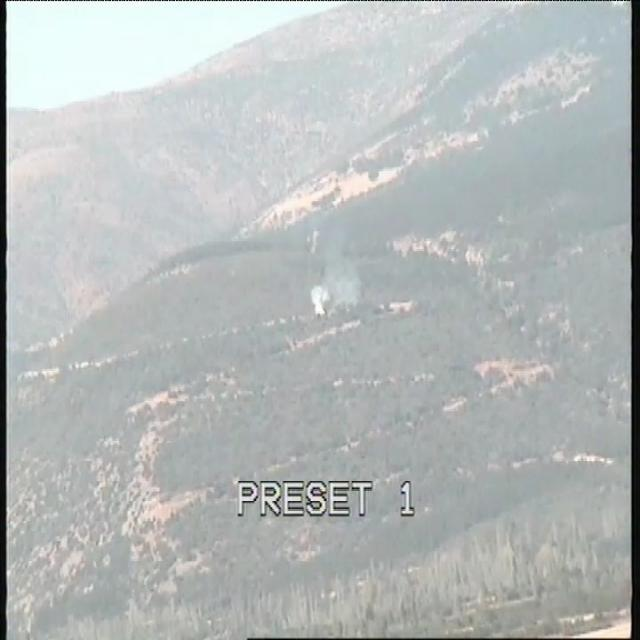smoke: (305, 259, 364, 322)
